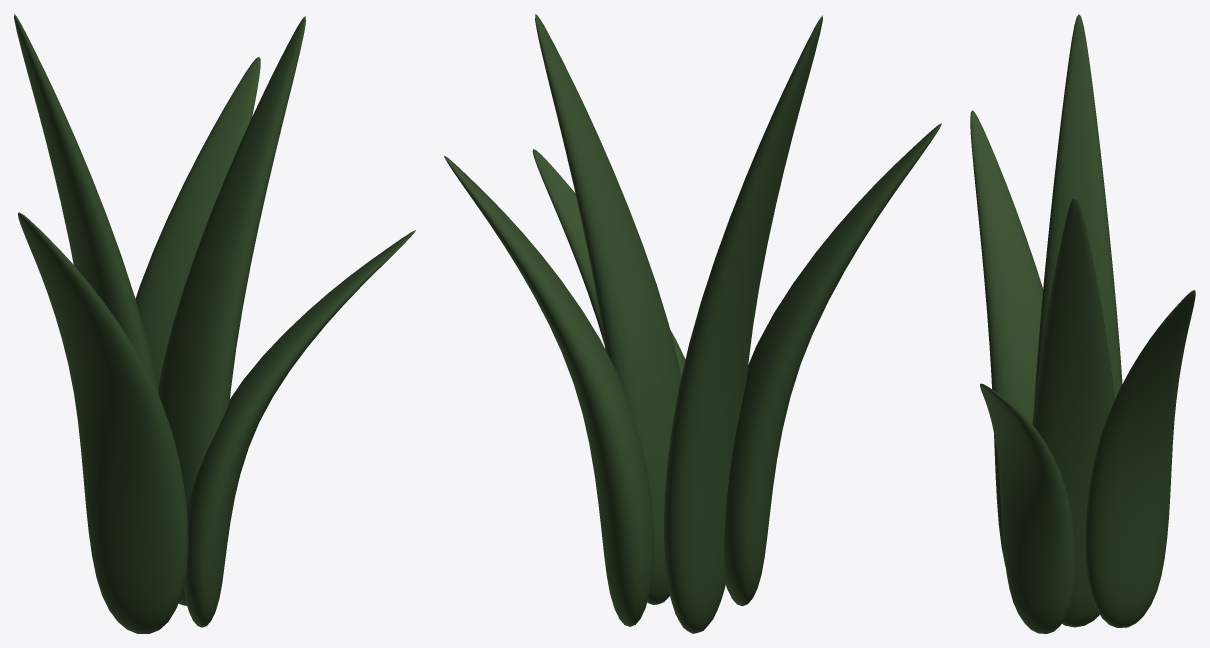
The model's file is grama.fbx.
3 renders of one model, left to right at view 1: azimuth 30°, elevation 25°; view 2: azimuth 150°, elevation 25°; view 3: azimuth 270°, elevation 25°, orthographic. The views are drawn at different scales.
Parts seen in each view (by area): view 1: Cube.050, Cube.056, Cube.058, Cube.049, Cube.055; view 2: Cube.055, Cube.056, Cube.050, Cube.049, Cube.058; view 3: Cube.049, Cube.056, Cube.058, Cube.050, Cube.055.
Boxes of the visible parts, x1,y1,x2,y2 form: Cube.050: (18,212,188,633); Cube.056: (158,16,305,605); Cube.058: (183,230,415,627); Cube.049: (135,57,260,387); Cube.055: (14,14,159,396); Cube.055: (663,15,822,633); Cube.056: (535,14,681,604); Cube.050: (724,123,941,606); Cube.049: (444,156,653,626); Cube.058: (532,149,685,376); Cube.049: (1085,290,1195,627); Cube.056: (1032,197,1114,627); Cube.058: (980,383,1074,633); Cube.050: (970,110,1043,566); Cube.055: (1034,14,1122,616).
Size of the model in its own units: 100 by 154 by 56.42.
